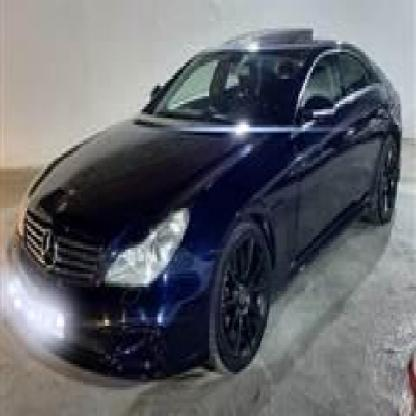Car: (0, 13, 409, 382)
